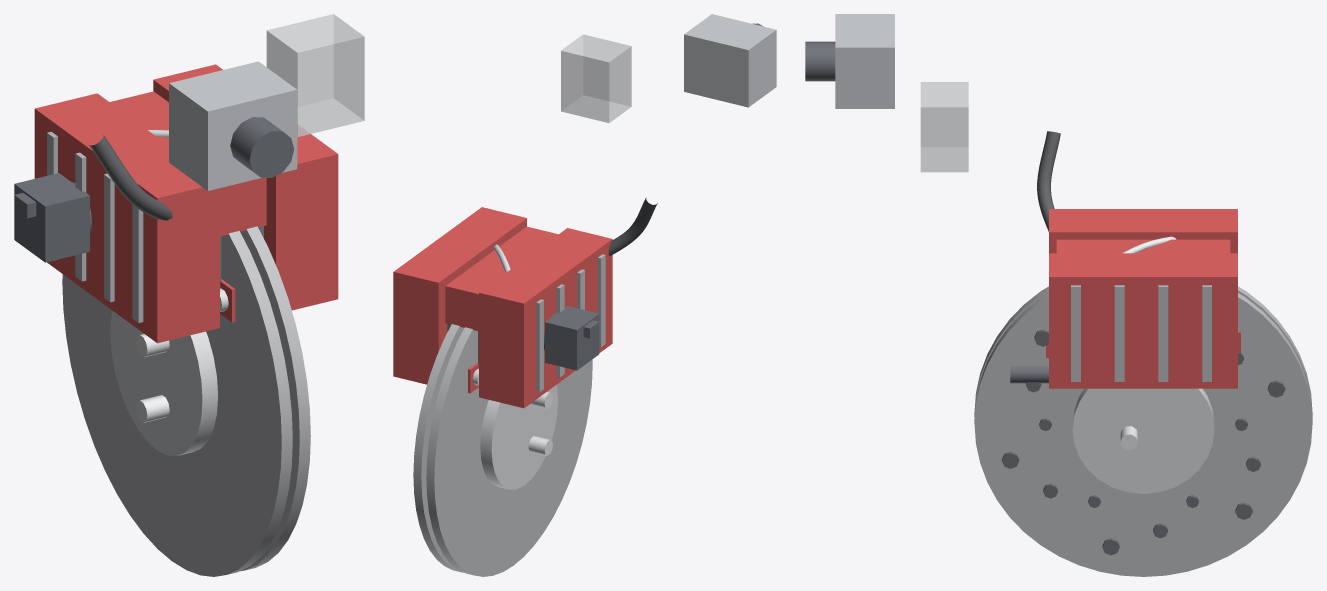
The model's file is rbrakes.glb.
3 renders of one model, left to right at view 1: azimuth 30°, elevation 25°; view 2: azimuth 150°, elevation 25°; view 3: azimuth 270°, elevation 25°, orthographic. The views are drawn at different scales.
Visible parts, largest first — view 1: rearRotorLeft_faceI, rearCaliperLeft_inner, absPsmHydraulicUnit_block, rearCaliperLeft_outer, rearRotorLeft_hat, brakeFluidReservoir_tank, rearRotorLeft_faceO, epbActuatorLeft_housing, rearCaliperLeft, rearCaliperLeft_bridge, absPsmHydraulicUnit_pump, brakeLines_flex (+2 smaller); view 2: rearRotorLeft_faceI, rearCaliperLeft_inner, rearCaliperLeft_outer, absPsmHydraulicUnit_block, brakeFluidReservoir_tank, rearRotorLeft_hat, rearCaliperLeft_bridge, rearRotorLeft_faceO, epbActuatorLeft_housing, rearCaliperLeft, brakeLines_flex, rearRotorLeft; view 3: rearRotorLeft_faceO, rearCaliperLeft_outer, rearRotorLeft_hat, rearCaliperLeft_inner, absPsmHydraulicUnit_block, brakeFluidReservoir_tank, rearCaliperLeft, rearRotorLeft, rearCaliperLeft_bridge, absPsmHydraulicUnit_pump, brakeLines_flex, rearRotorLeft_faceI (+1 smaller).
Boxes of the visible parts, bbox=[...] form: rearRotorLeft_faceI: bbox=[62, 231, 292, 576]; rearCaliperLeft_inner: bbox=[34, 93, 219, 343]; absPsmHydraulicUnit_block: bbox=[169, 61, 297, 190]; rearCaliperLeft_outer: bbox=[153, 64, 338, 310]; rearRotorLeft_hat: bbox=[110, 310, 217, 456]; brakeFluidReservoir_tank: bbox=[266, 14, 364, 136]; rearRotorLeft_faceO: bbox=[240, 226, 310, 571]; epbActuatorLeft_housing: bbox=[14, 173, 89, 262]; rearCaliperLeft: bbox=[47, 131, 143, 322]; rearCaliperLeft_bridge: bbox=[109, 91, 266, 236]; absPsmHydraulicUnit_pump: bbox=[230, 117, 294, 177]; brakeLines_flex: bbox=[89, 135, 172, 220]; rearRotorLeft_faceI: bbox=[426, 327, 592, 576]; rearCaliperLeft_inner: bbox=[479, 228, 612, 408]; rearCaliperLeft_outer: bbox=[393, 207, 526, 384]; absPsmHydraulicUnit_block: bbox=[684, 14, 776, 107]; brakeFluidReservoir_tank: bbox=[561, 34, 631, 122]; rearRotorLeft_hat: bbox=[480, 385, 557, 489]; rearCaliperLeft_bridge: bbox=[445, 226, 557, 331]; rearRotorLeft_faceO: bbox=[413, 324, 464, 572]; epbActuatorLeft_housing: bbox=[545, 306, 599, 370]; rearCaliperLeft: bbox=[536, 254, 605, 392]; brakeLines_flex: bbox=[608, 198, 657, 255]; rearRotorLeft: bbox=[528, 392, 552, 455]; rearRotorLeft_faceO: bbox=[974, 293, 1312, 576]; rearCaliperLeft_outer: bbox=[1049, 253, 1237, 388]; rearRotorLeft_hat: bbox=[1072, 388, 1214, 493]; rearCaliperLeft_inner: bbox=[1049, 209, 1237, 253]; absPsmHydraulicUnit_block: bbox=[835, 14, 894, 108]; brakeFluidReservoir_tank: bbox=[920, 82, 968, 172]; rearCaliperLeft: bbox=[1071, 285, 1211, 381]; rearRotorLeft: bbox=[1001, 329, 1285, 555]; rearCaliperLeft_bridge: bbox=[1056, 239, 1230, 253]; absPsmHydraulicUnit_pump: bbox=[805, 41, 835, 81]; brakeLines_flex: bbox=[1037, 131, 1060, 231]; rearRotorLeft_faceI: bbox=[974, 286, 1312, 417].
Bounding box in the file's own units: 1.23 × 2.72 × 2.55.
